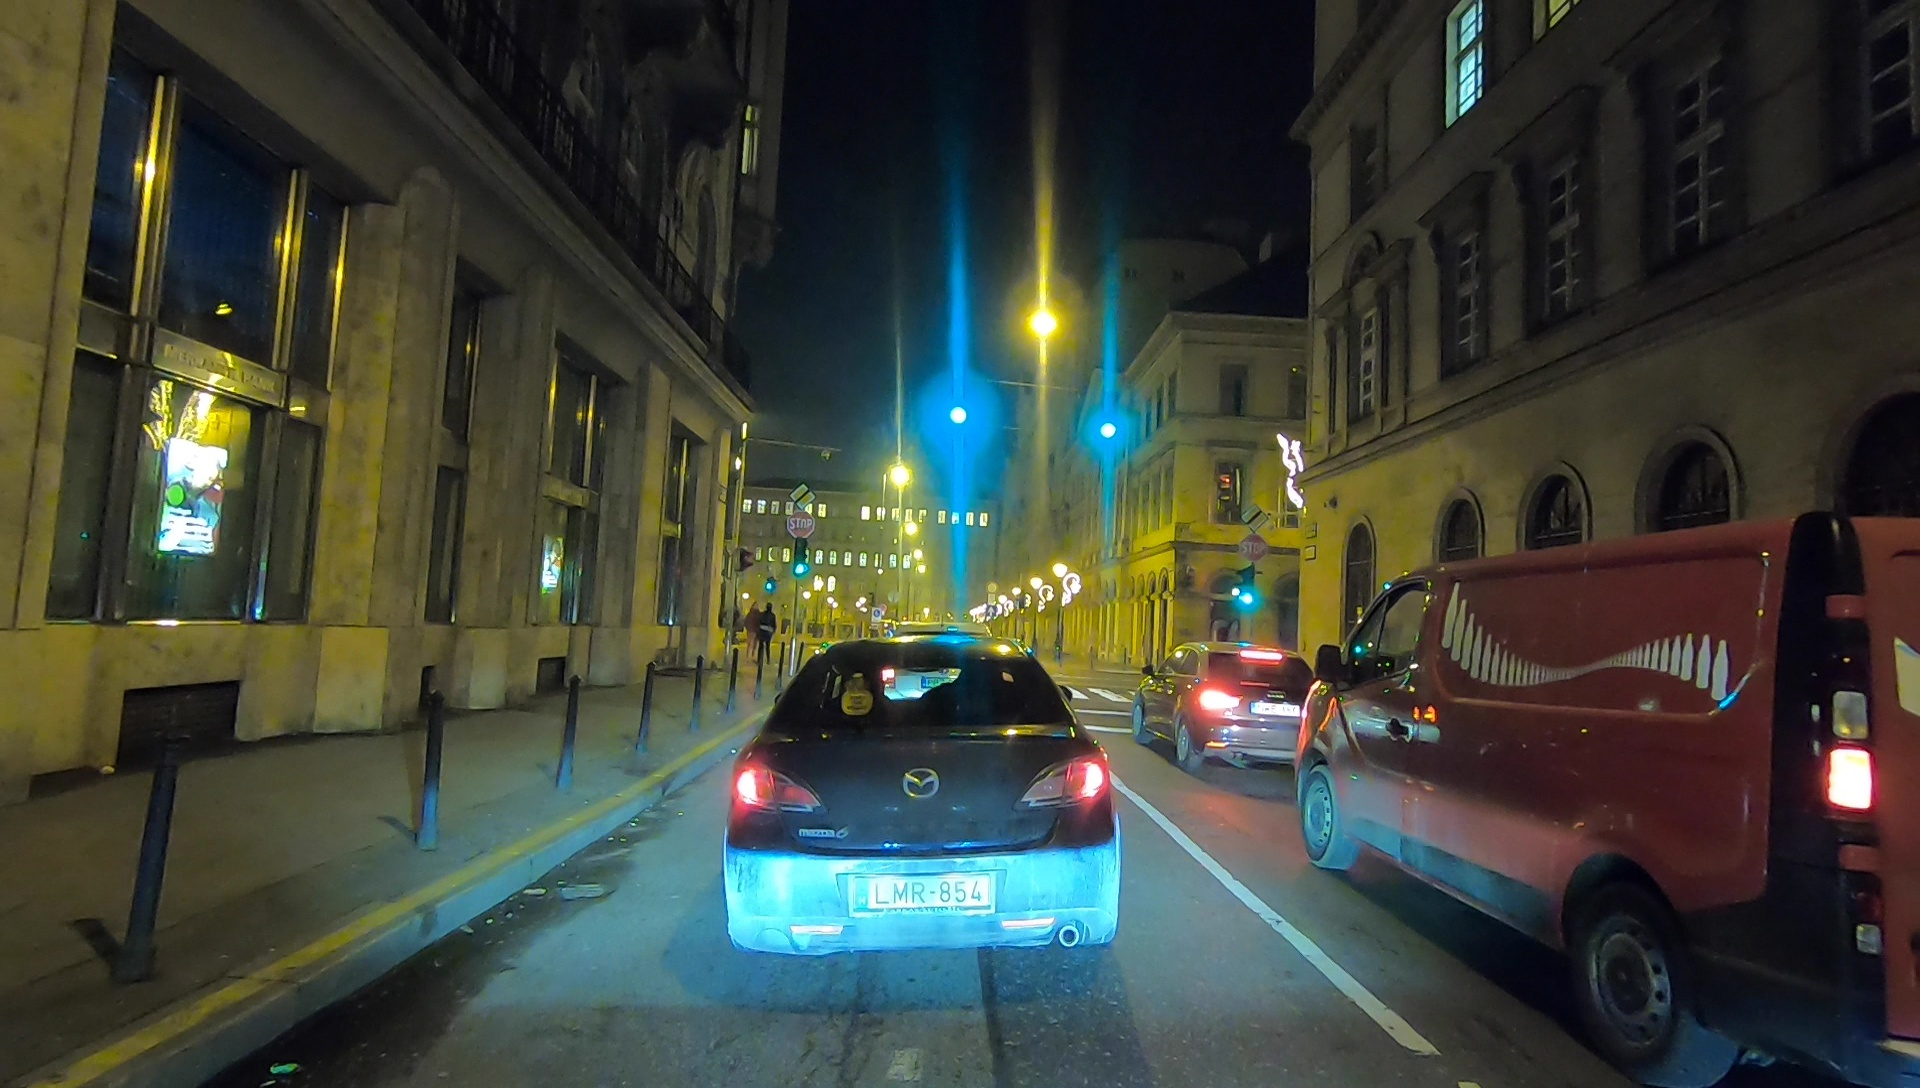person: (745, 602, 758, 667), (760, 604, 773, 667)
